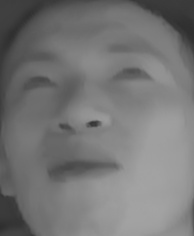eye: (108, 61, 153, 92), (20, 67, 61, 99)
mouth: (41, 145, 122, 188)
